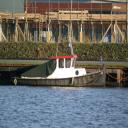tugboat: (11, 54, 109, 91)
